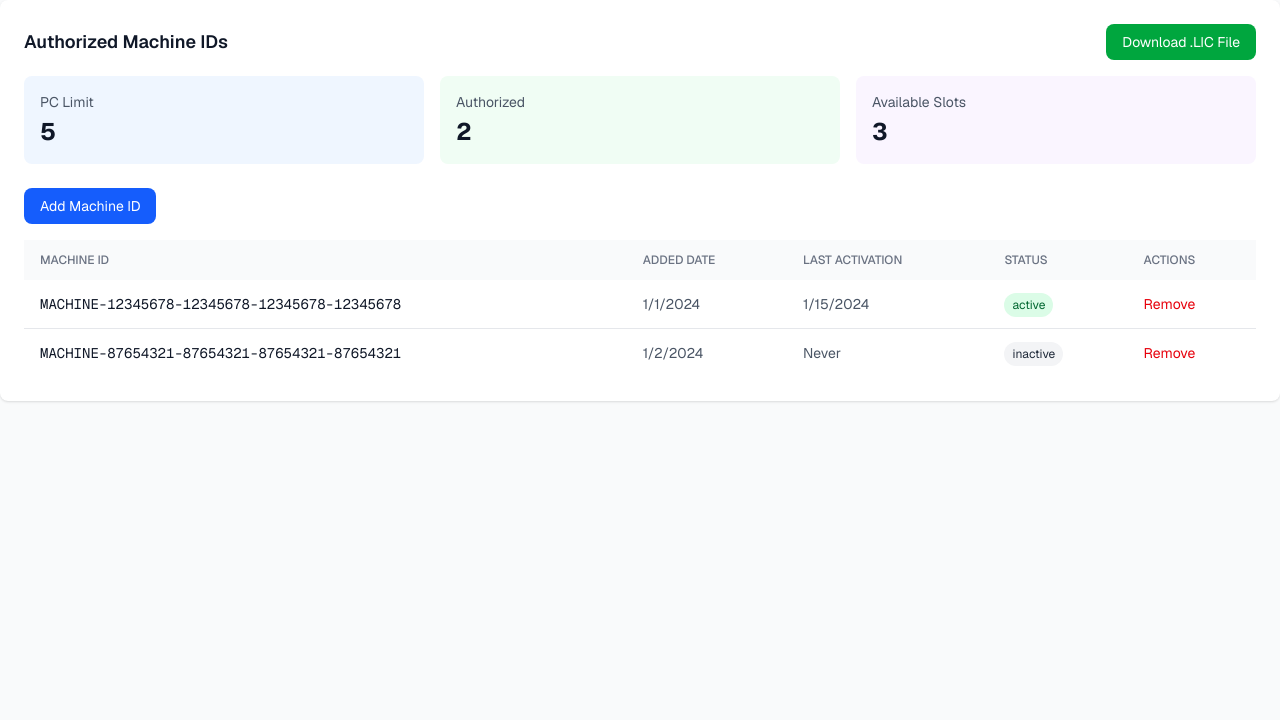
Test: MachineIdManagementPanel › opens add machine modal
Click the button "Add Machine ID" at (90, 206), box [24, 188, 156, 224]
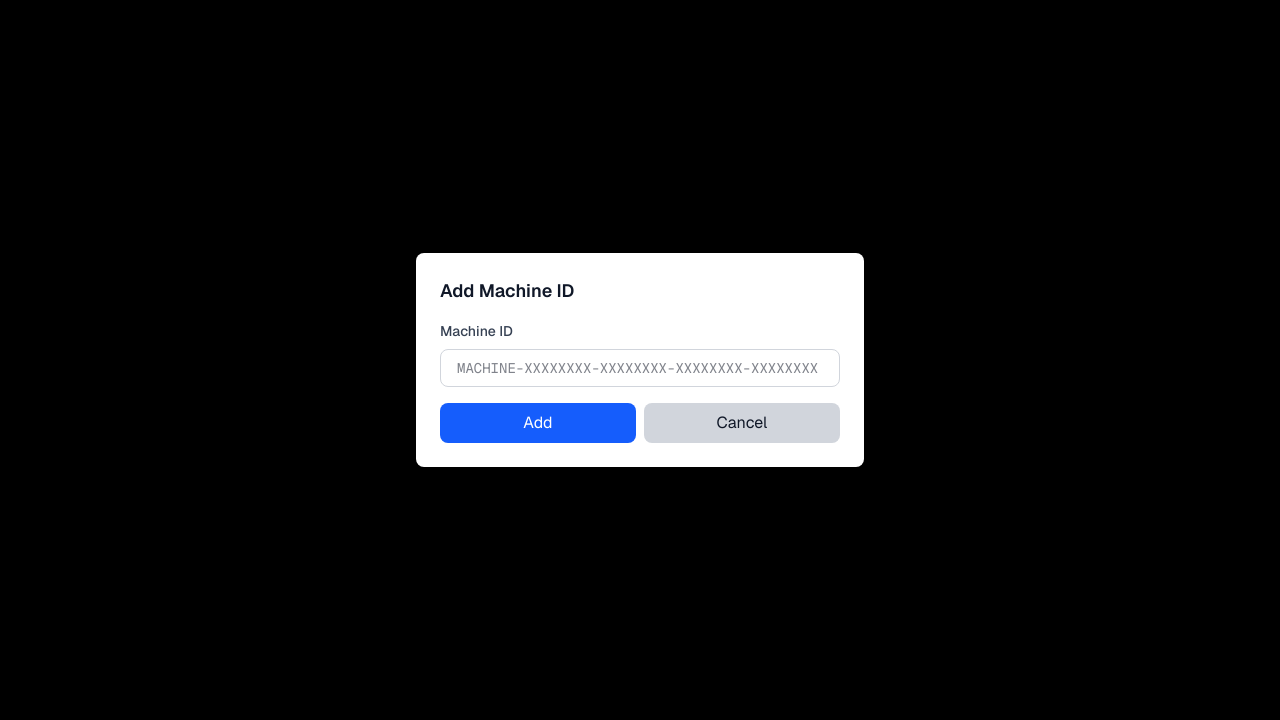
Expected: the field with placeholder "MACHINE-XXXXXXXX-XXXXXXXX-XXXXXXXX-XXXXXXXX" is shown, [440, 349, 840, 387]
